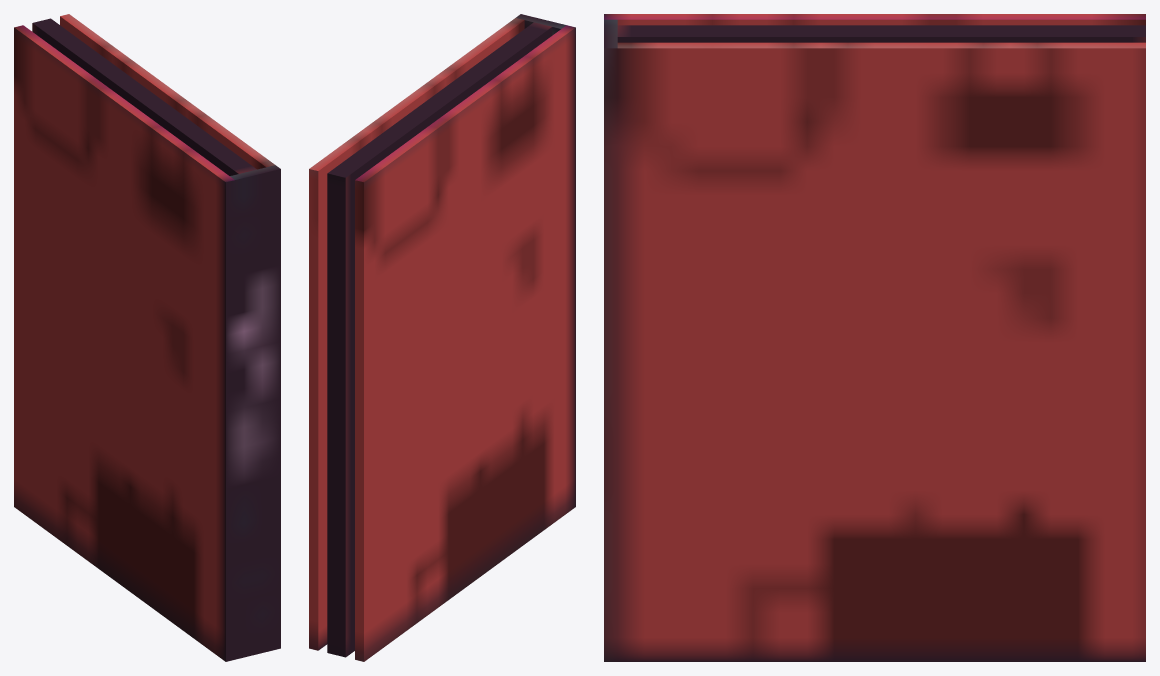
Rendered from BuildingModule_Interior_A_00.fbx.
3 renders of one model, left to right at view 1: azimuth 30°, elevation 25°; view 2: azimuth 150°, elevation 25°; view 3: azimuth 270°, elevation 25°, orthographic. The views are drawn at different scales.
Visible parts, largest first — view 1: BuildingModule_Interior_A_00; view 2: BuildingModule_Interior_A_00; view 3: BuildingModule_Interior_A_00.
Boxes of the visible parts, x1,y1,x2,y2 form: BuildingModule_Interior_A_00: [14, 14, 280, 661]; BuildingModule_Interior_A_00: [309, 14, 575, 661]; BuildingModule_Interior_A_00: [604, 14, 1145, 661].
Bounding box in the file's own units: 30 × 250 × 200.
